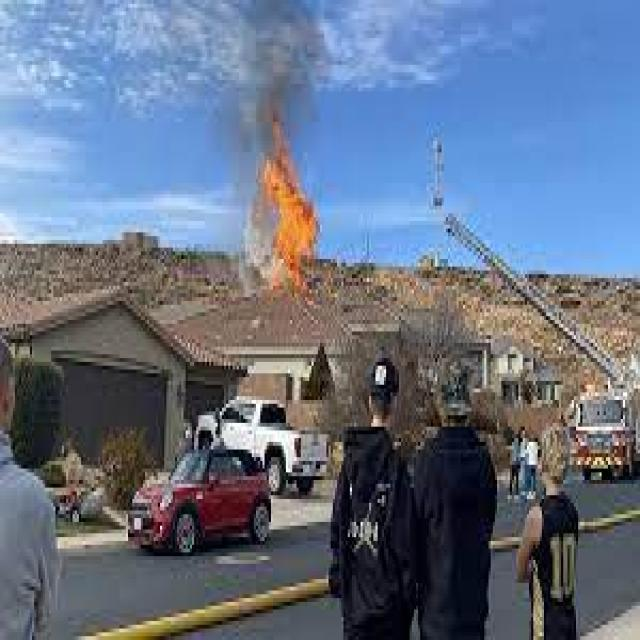Fire: (248, 120, 321, 294)
Smoke: (226, 0, 327, 122)
